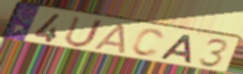3: (198, 38, 230, 69)
4: (32, 12, 62, 44)
A: (92, 22, 128, 55), (157, 33, 194, 65)
C: (129, 28, 166, 59)
U: (62, 15, 106, 49)
